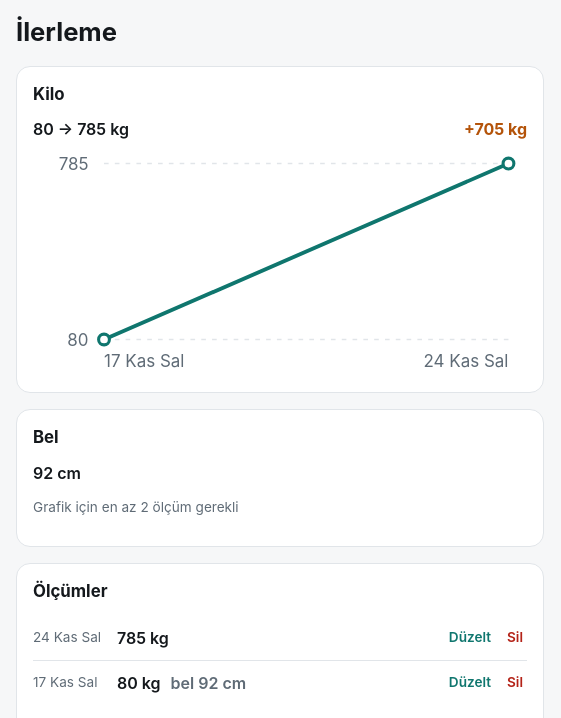
Test: ölçüm listeden silinebilir
Click the 1st button "Sil" at (515, 638), box [503,616,527,660]
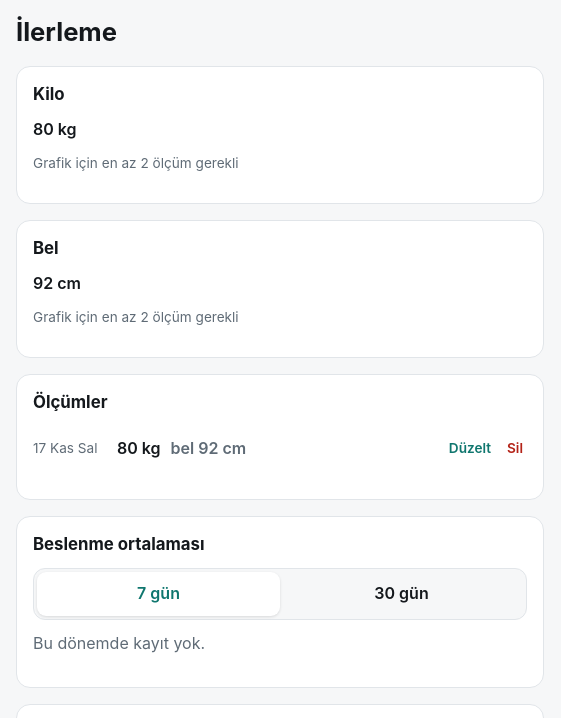
Expected: the text "785 kg" is gone
